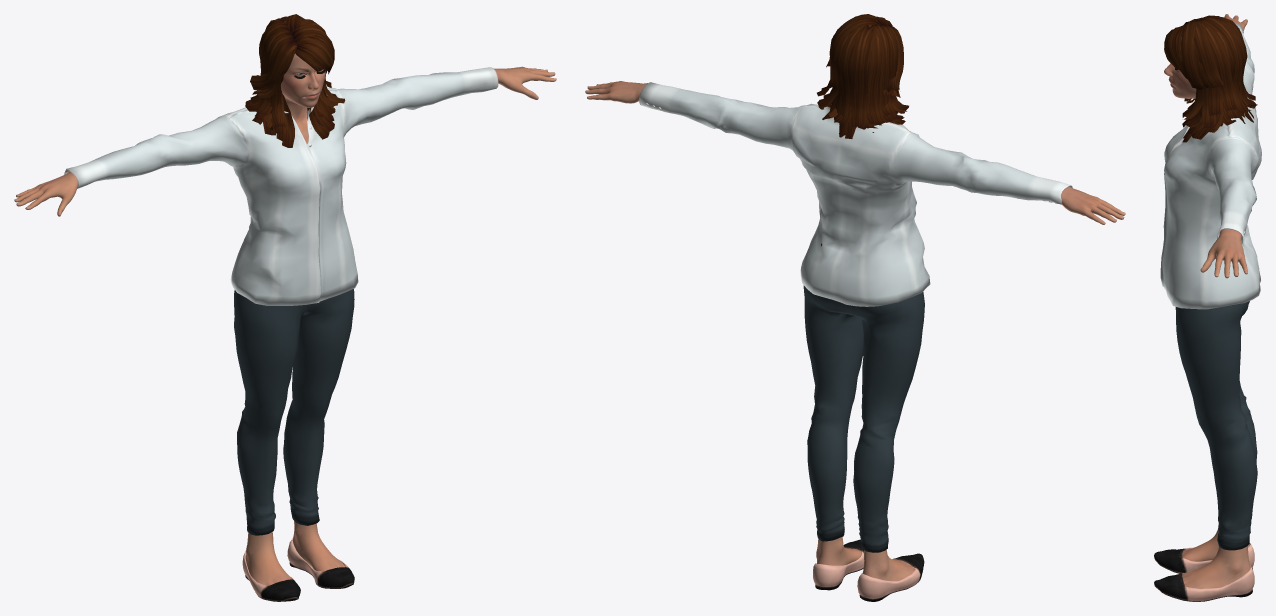
Rendered from female_civ_v1.glb.
The picture shows the model from 3 angles, left to right: view 1: azimuth 30°, elevation 25°; view 2: azimuth 150°, elevation 25°; view 3: azimuth 270°, elevation 25°; orthographic projection.
Parts seen in each view (by area): view 1: Object_3, Object_2; view 2: Object_3, Object_2; view 3: Object_3, Object_2.
Part boxes in pixels (box(x1,y1,x2,y2)): Object_3: box(64, 14, 498, 601); Object_2: box(14, 36, 556, 585); Object_3: box(639, 14, 1072, 601); Object_2: box(585, 81, 1125, 581); Object_3: box(1154, 15, 1261, 601); Object_2: box(1164, 14, 1250, 588).
Bounding box in the file's own units: 179 × 179 × 31.17.
1 material, 1 textured.
